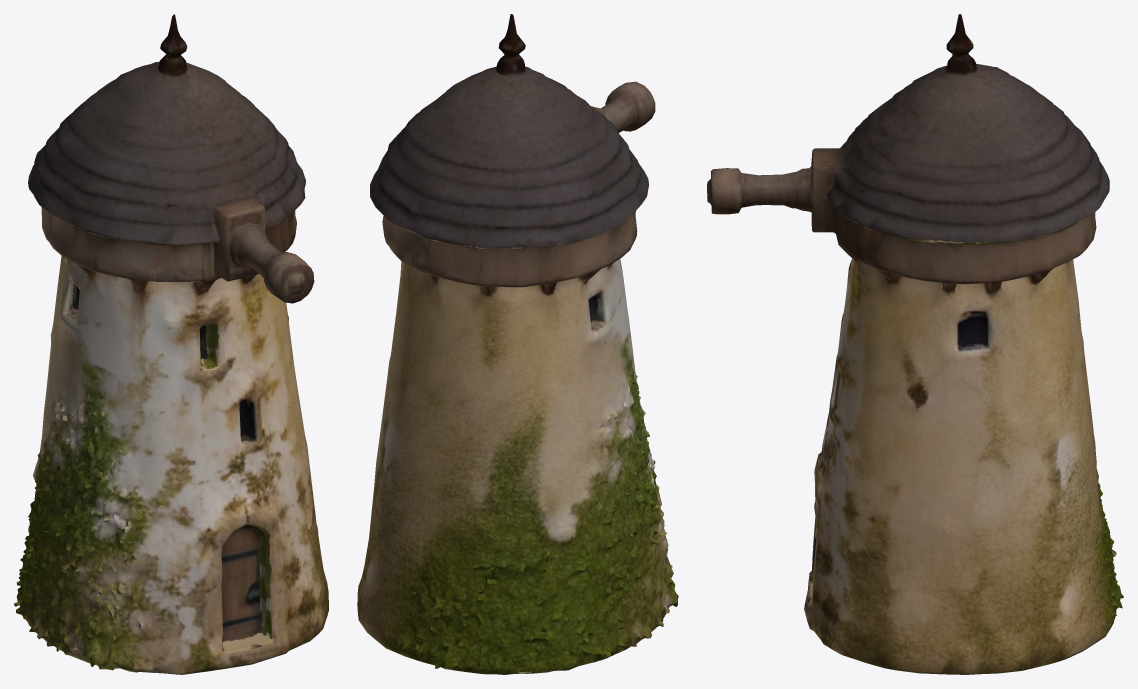
Rendered from mill-tower.glb.
3 views of the same model, side by side, from view 1: azimuth 30°, elevation 25°; view 2: azimuth 150°, elevation 25°; view 3: azimuth 270°, elevation 25° (orthographic).
Visible parts, largest first — view 1: mill-tower.raw; view 2: mill-tower.raw; view 3: mill-tower.raw.
Part boxes in pixels (x1,y1,x2,y2): mill-tower.raw: (14,14,328,674); mill-tower.raw: (357,14,678,674); mill-tower.raw: (707,14,1123,674).
Bounding box in the file's own units: 4.72 × 10 × 6.31.
Materials: 1 (1 with a texture image).
